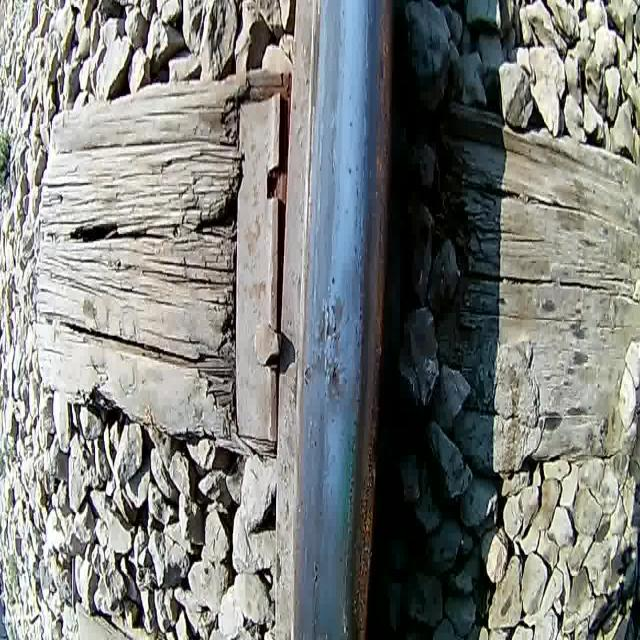Squats: (298, 271, 355, 416)
